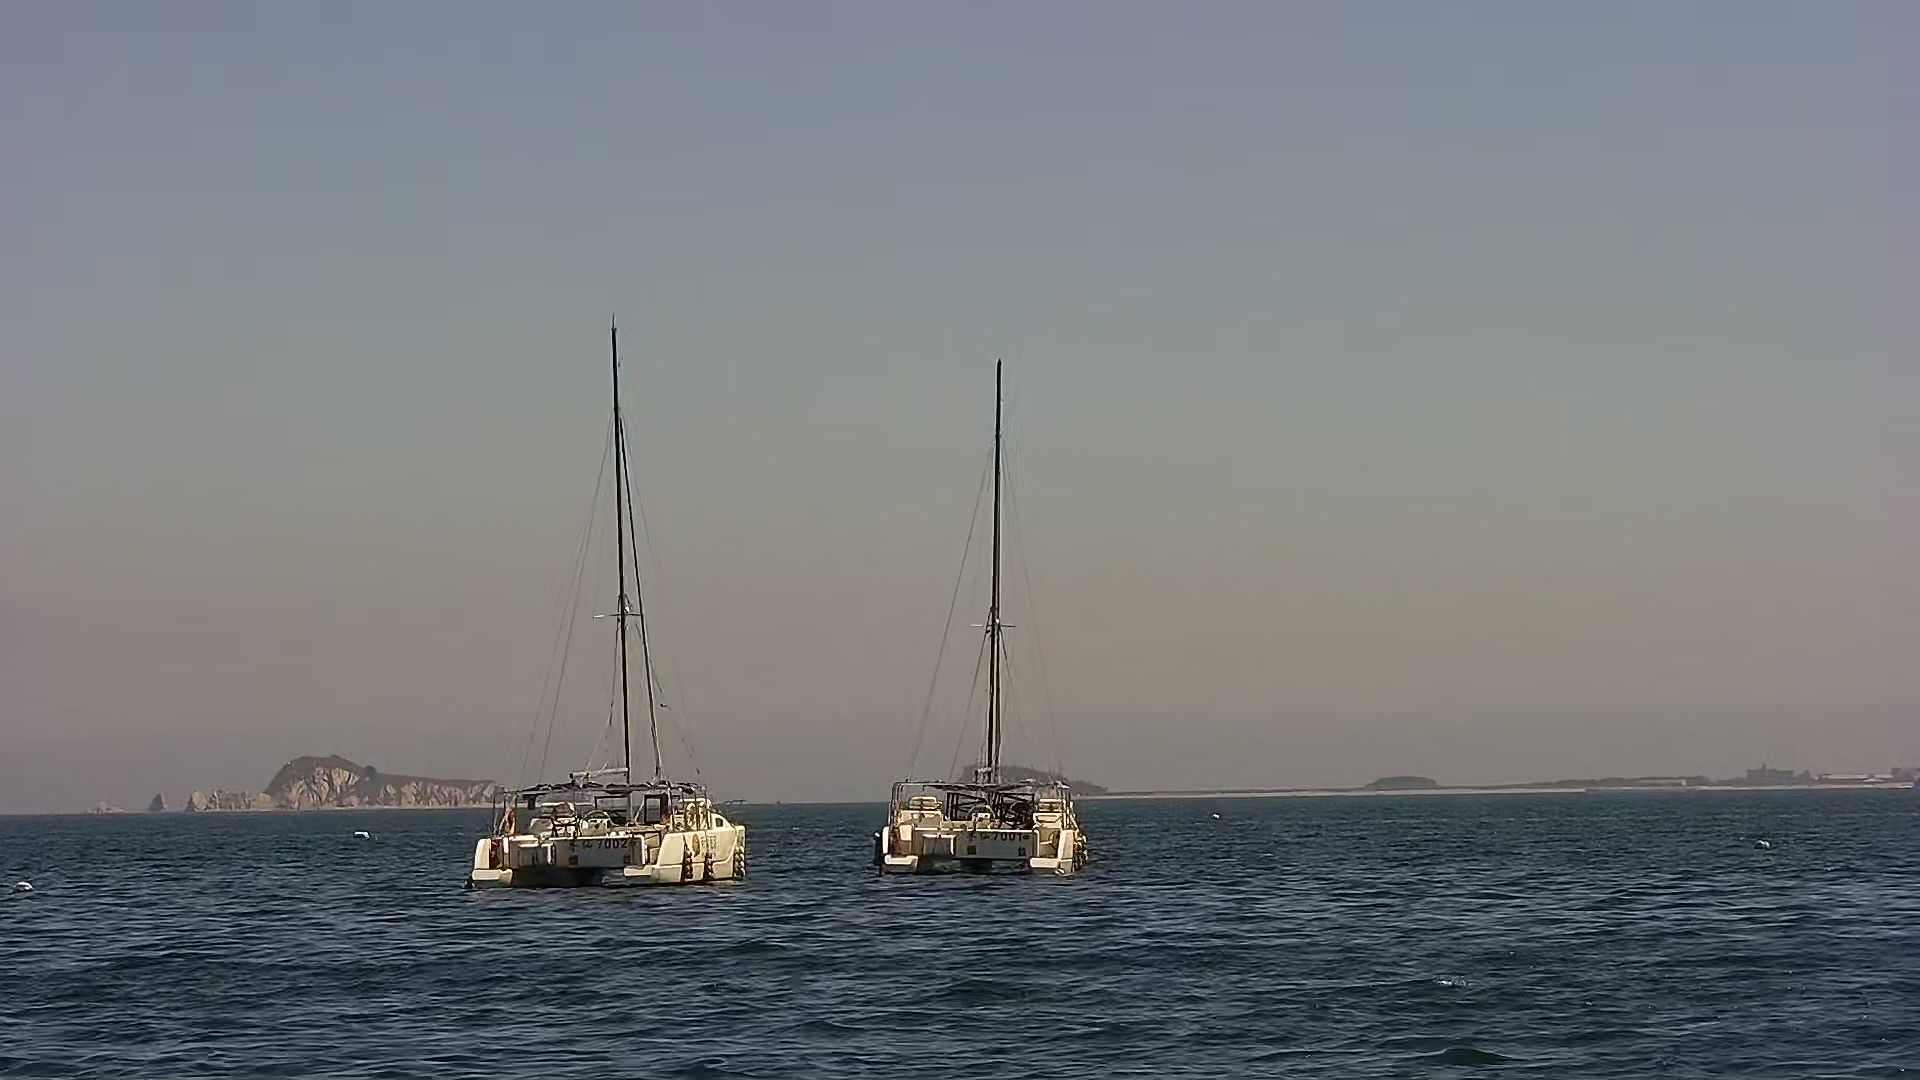ball: (11, 872, 44, 899)
boat: (448, 309, 761, 887), (862, 344, 1098, 880)
rock: (185, 749, 521, 822), (1549, 760, 1888, 793), (960, 752, 1120, 804), (1357, 766, 1466, 793)
